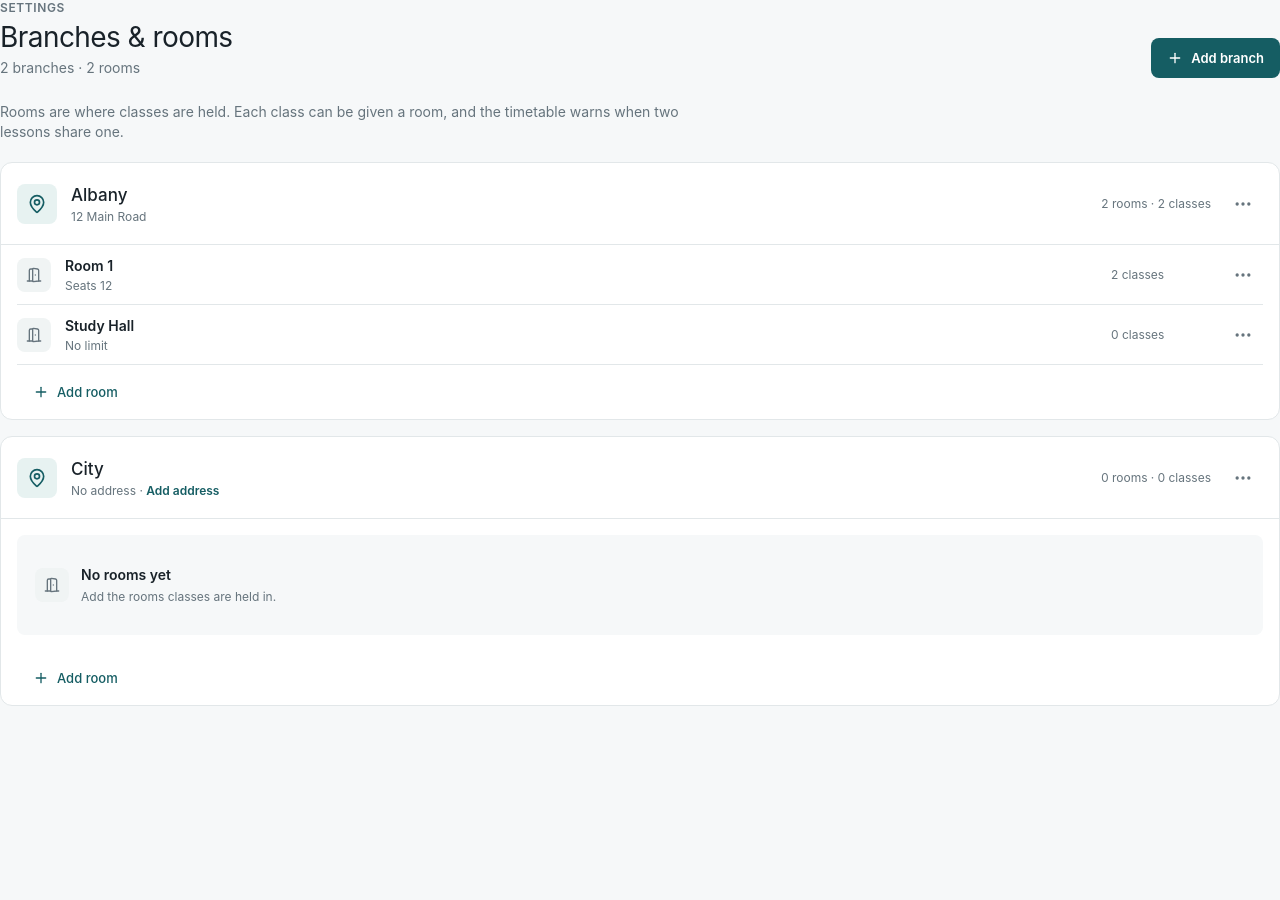
Test: deleting › says everything that still uses a branch, with Delete off
Click the button named "Actions for Albany": x=1243, y=204 x1=1223 y1=184 x2=1263 y2=224
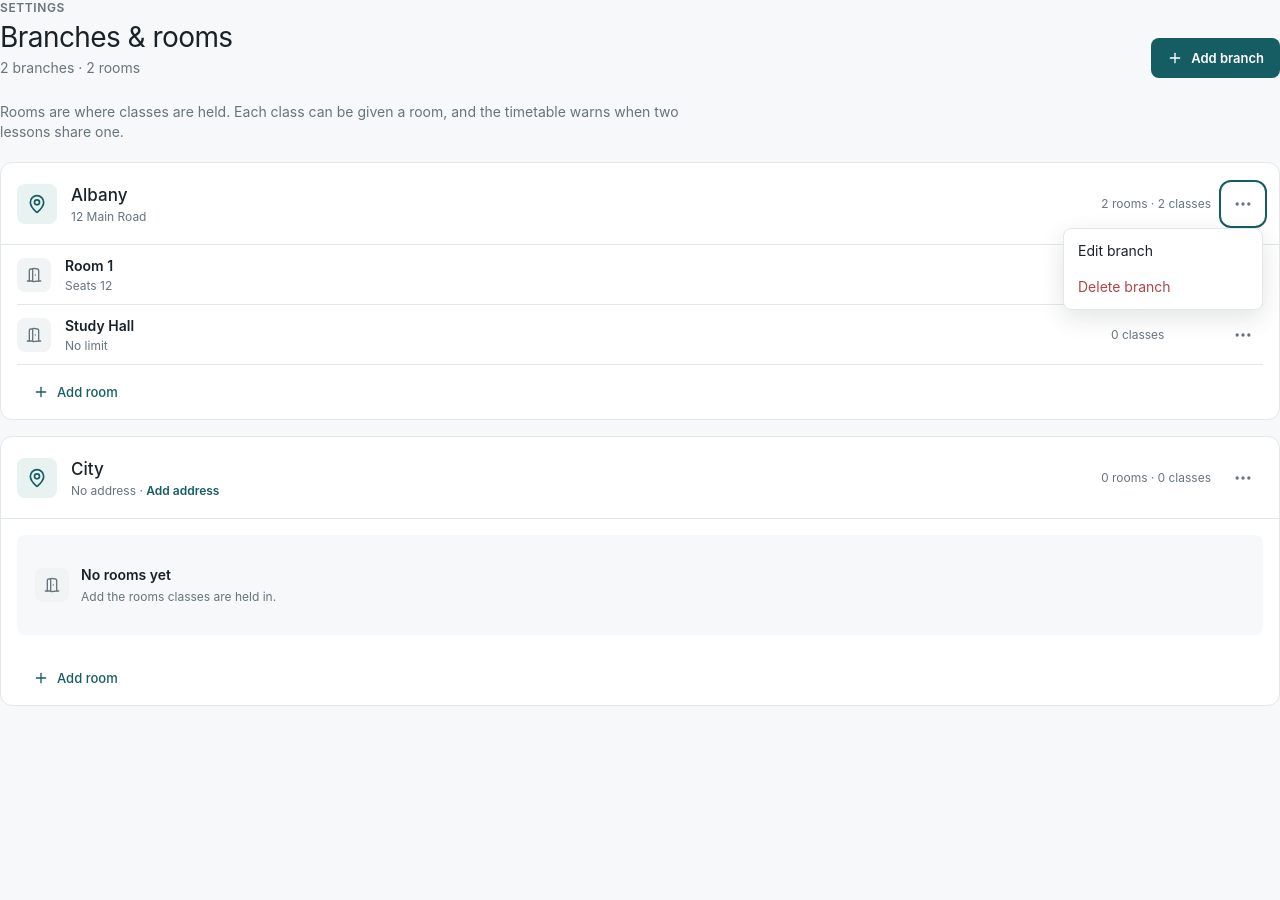
Click the menu item "Delete branch": x=1163, y=286 x1=1068 y1=268 x2=1258 y2=304
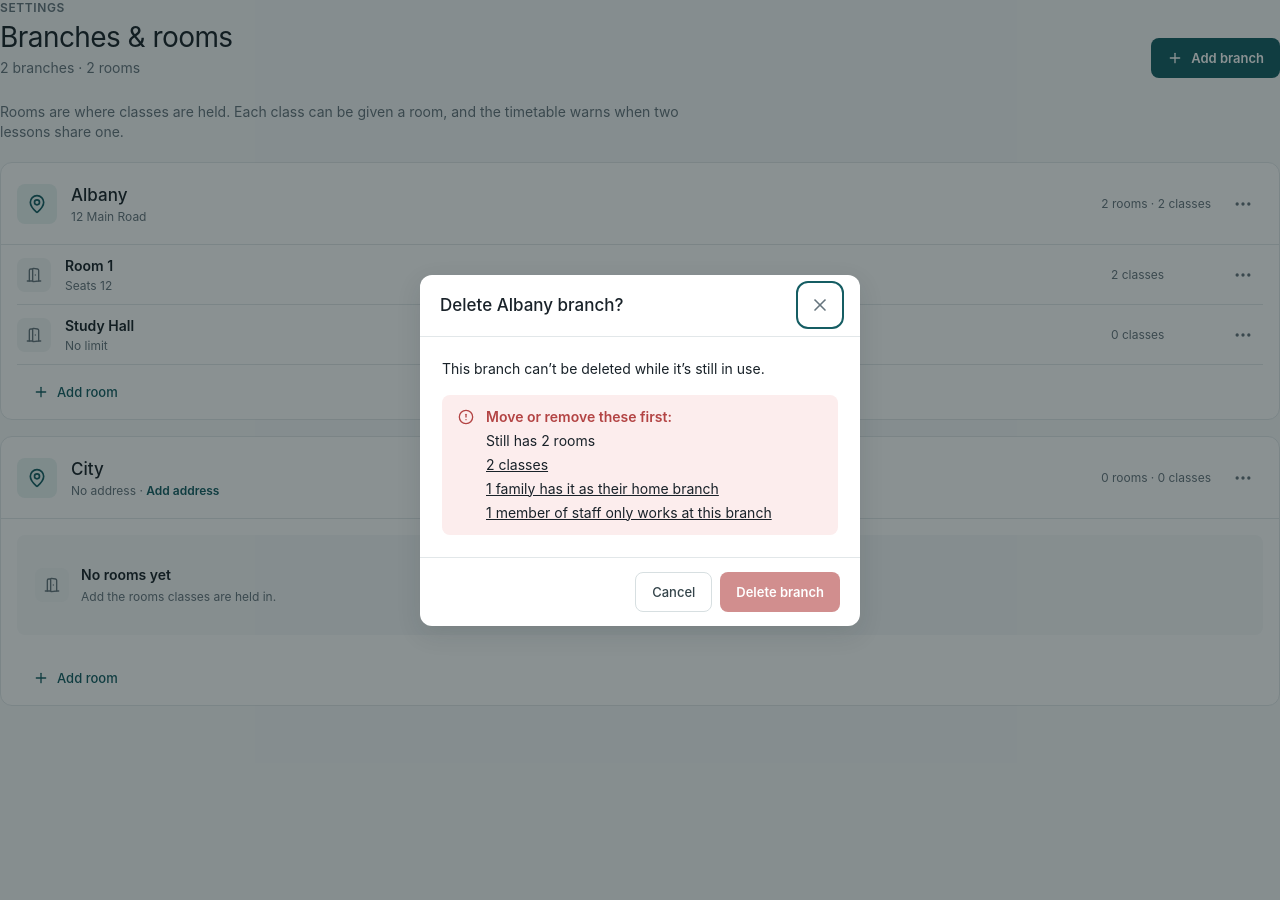
expect the list item "Still has 2 rooms" is shown: met, box x1=486 y1=432 x2=595 y2=448
expect the link "2 classes" is shown: met, box x1=486 y1=456 x2=548 y2=472
expect the link "1 family has it as their home branch" is shown: met, box x1=486 y1=480 x2=719 y2=496
